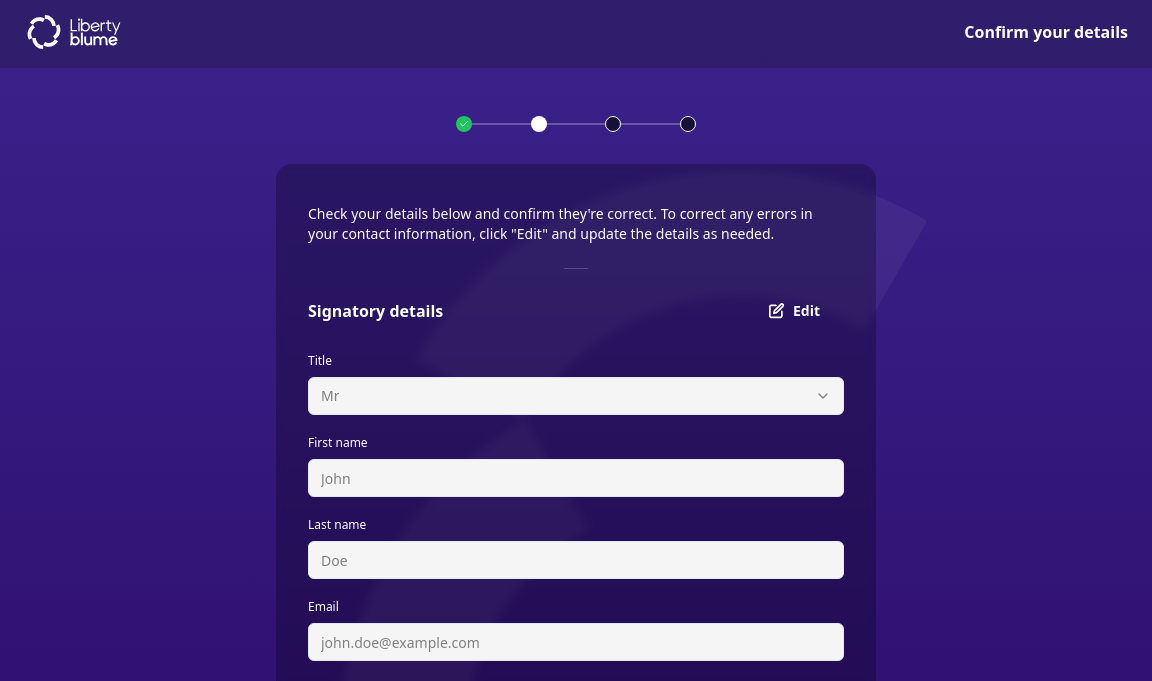
it: ConfirmDetails › confirm email field visibility › initializes Confirm email with same value as Email
The image size is (1152, 681).
What coordinates should you click on to do the following:
click the button "Edit"
I would click on:
 (794, 311)
Its box is [745,293,844,329].
(page scrolled)
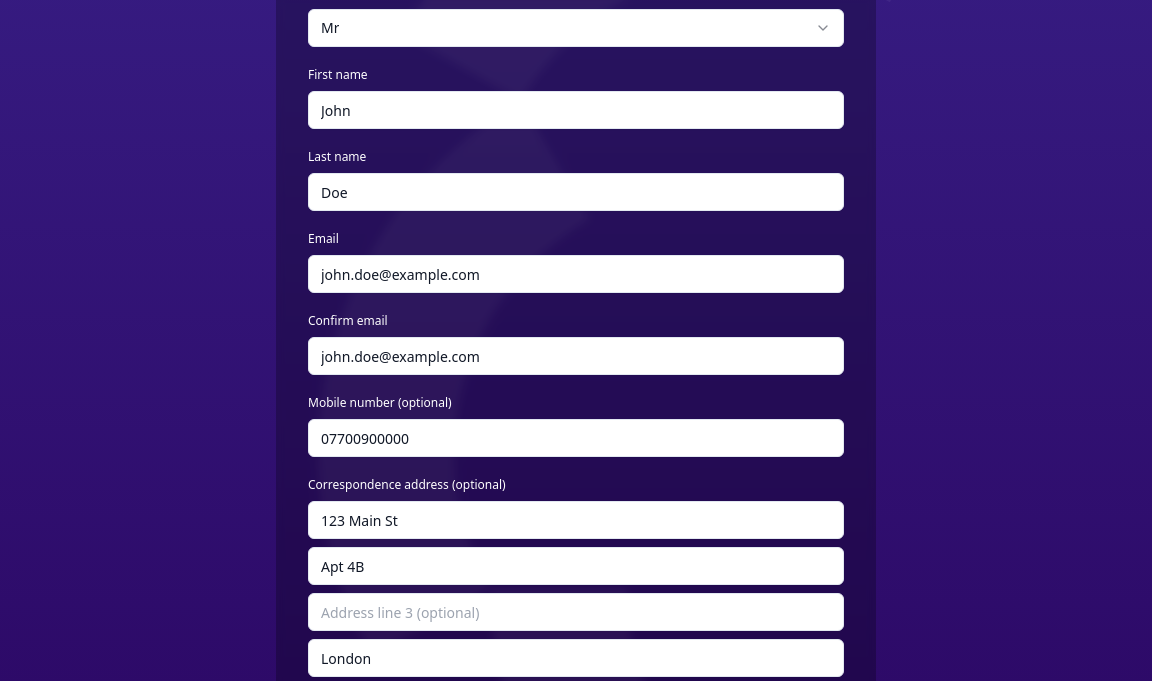
Now the field with placeholder "Confirm email" holds "john.doe@example.com", box [308,337,844,375]
